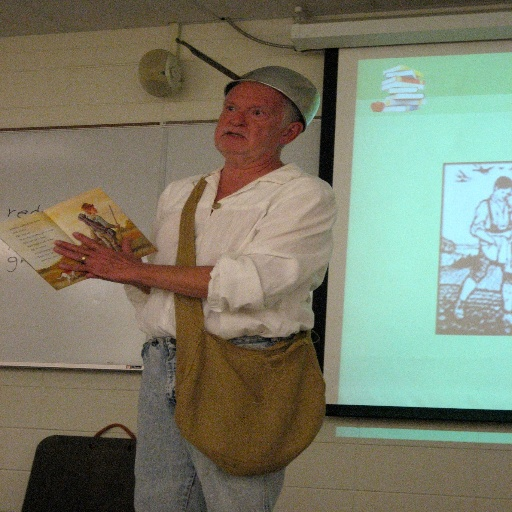hand: (52, 230, 138, 282), (85, 260, 143, 284)
